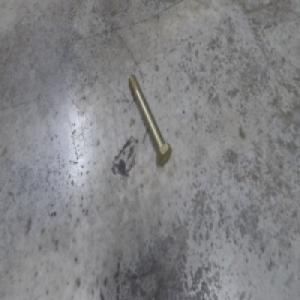Bolt: (131, 73, 175, 165)
